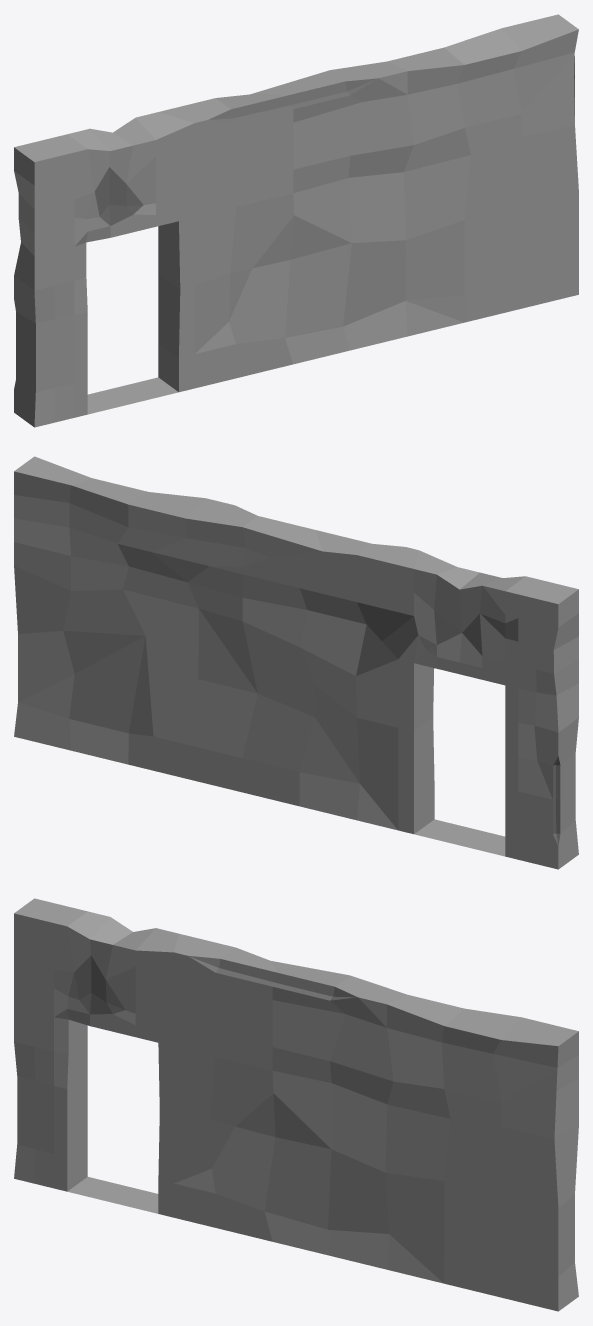
File: Fixed Mesh 7.fbx
The picture shows the model from 3 angles, top to bottom: view 1: azimuth 30°, elevation 25°; view 2: azimuth 150°, elevation 25°; view 3: azimuth 330°, elevation 25°; orthographic projection.
Visible parts, largest first — view 1: Cube.045; view 2: Cube.045; view 3: Cube.045.
Boxes of the visible parts, x1,y1,x2,y2 form: Cube.045: [14, 14, 578, 427]; Cube.045: [14, 456, 578, 869]; Cube.045: [14, 898, 578, 1311].
Size of the model in its own units: 920 by 428 by 62.46.
